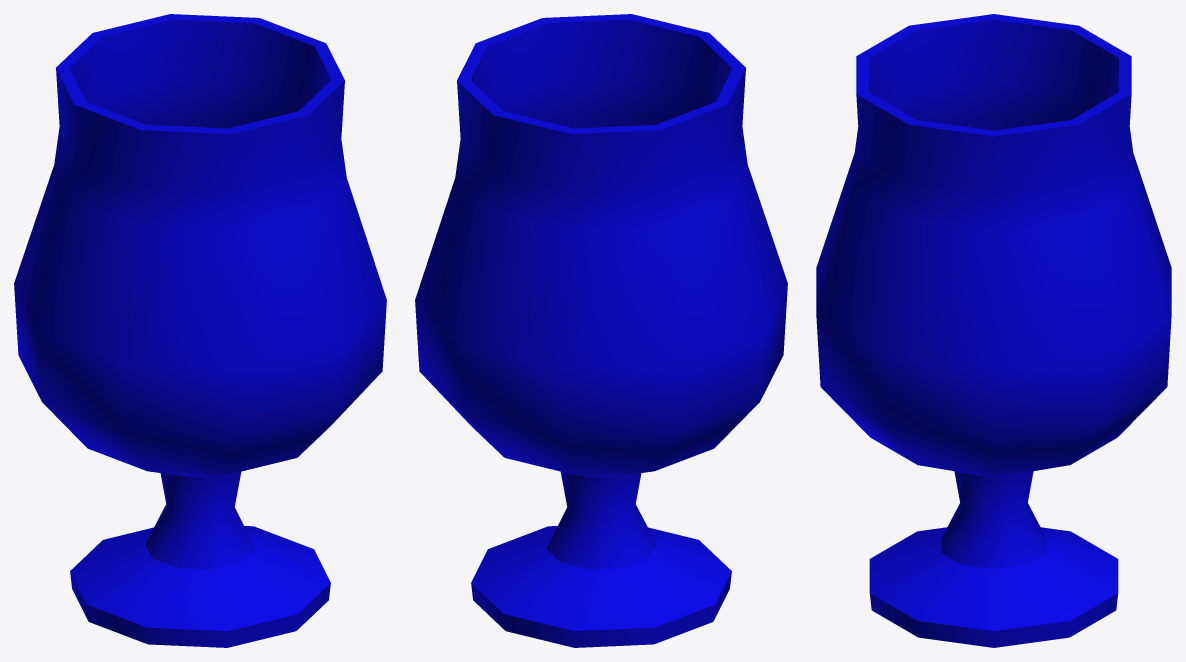
Rendered from Glass_Tulip.fbx.
3 views of the same model, side by side, from view 1: azimuth 30°, elevation 25°; view 2: azimuth 150°, elevation 25°; view 3: azimuth 270°, elevation 25° (orthographic).
Parts seen in each view (by area): view 1: Glass_Tulip; view 2: Glass_Tulip; view 3: Glass_Tulip.
Boxes of the visible parts, x1,y1,x2,y2 form: Glass_Tulip: (14, 14, 386, 647); Glass_Tulip: (415, 14, 787, 647); Glass_Tulip: (816, 14, 1171, 647).
Bounding box in the file's own units: 41.06 × 62.9 × 39.05.
